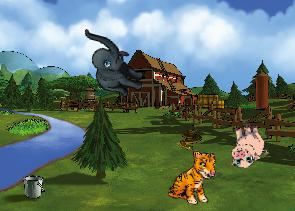elephant: (71, 28, 153, 100)
pig: (224, 121, 269, 169)
tiger: (167, 148, 218, 207)
